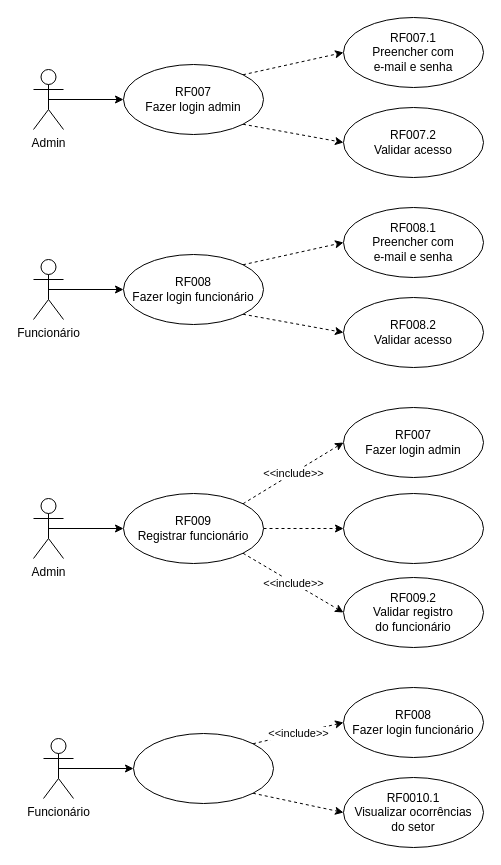
The diagram is 501 pixels wide and 865 high, and some of its shapes have lost their labels. The shapes that lost their labels are listed below. From the top down, each one's centre as x and y in pixels, then its label:
[413,528]: RF009.1 Preencher dados do funcionário
[203,768]: RF010 Visualizar ocorrências do setor
